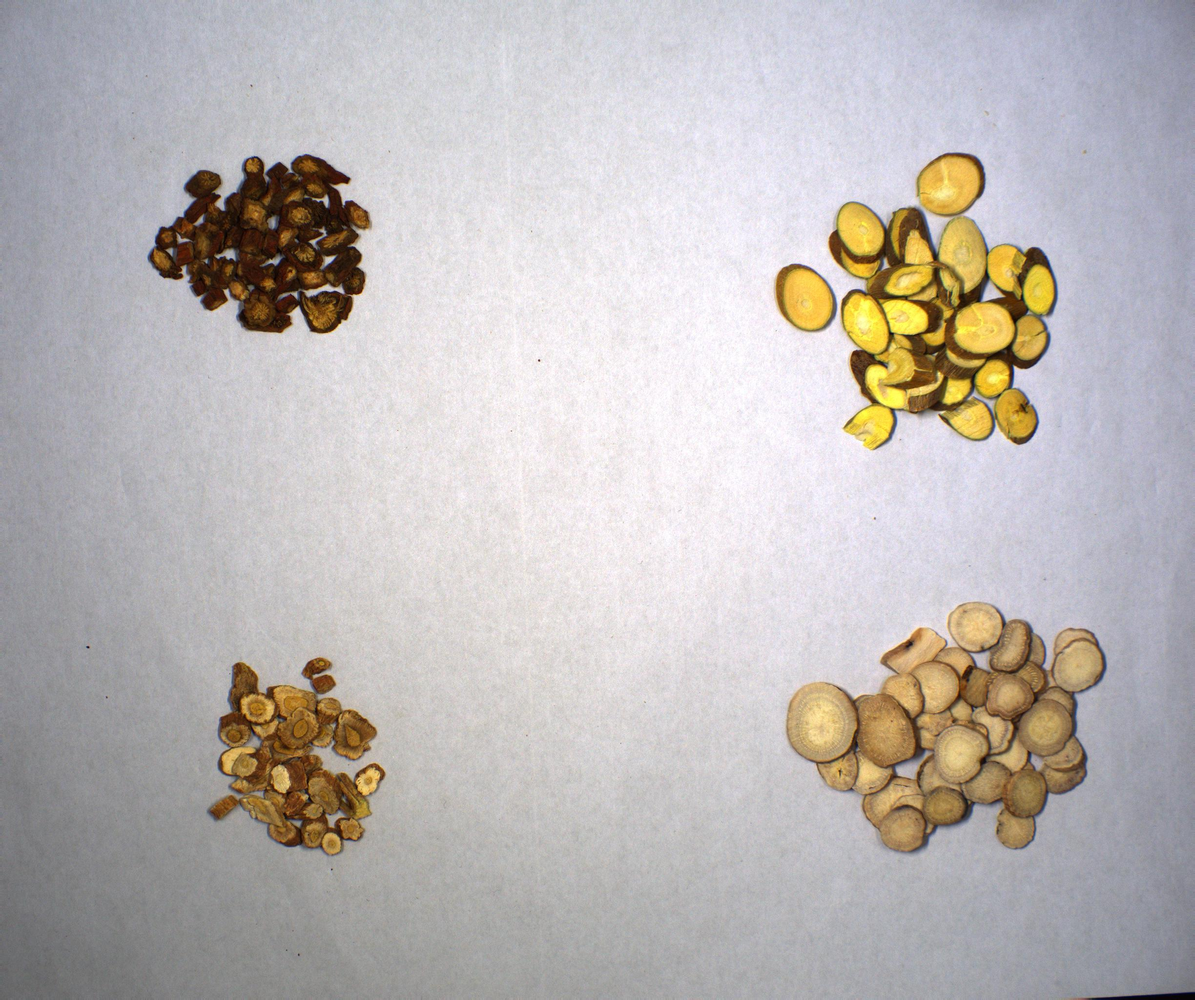baishao: (781, 600, 1107, 857)
banlangen: (208, 656, 382, 859)
danshen: (143, 154, 372, 335)
sangzhi: (772, 145, 1058, 454)
